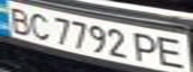2: (106, 25, 130, 61)
7: (66, 18, 90, 50), (48, 15, 72, 46)
9: (84, 22, 109, 55)
B: (3, 3, 36, 35)
C: (24, 9, 54, 40)
E: (154, 34, 190, 70)
P: (130, 30, 163, 65)
